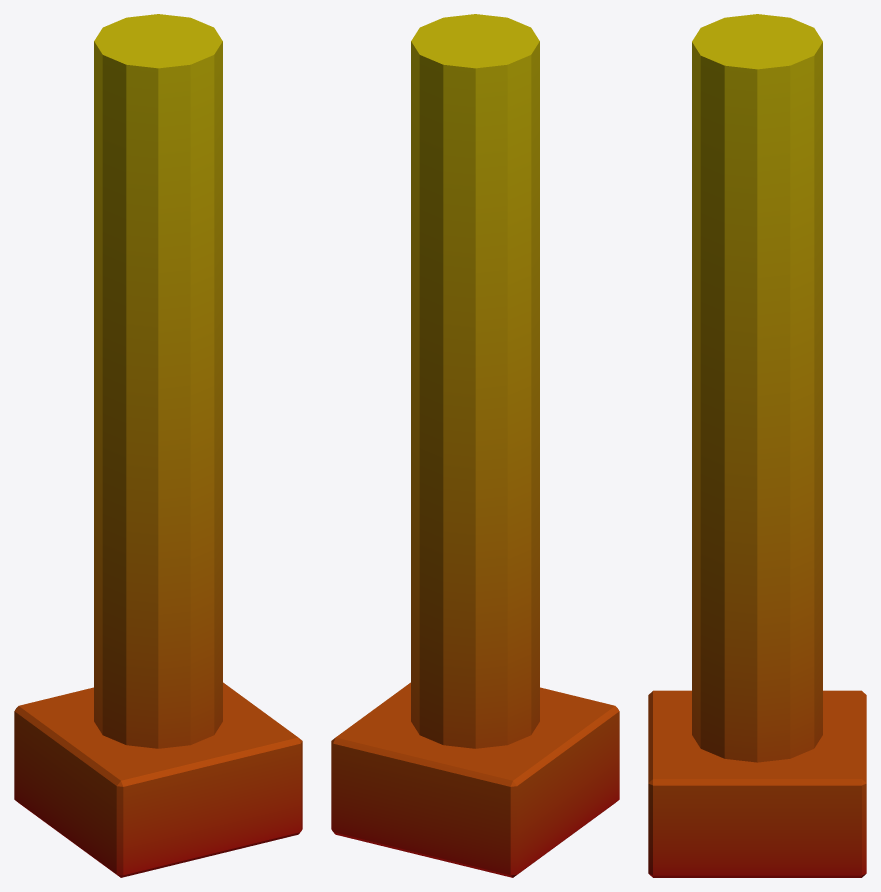
The model's file is lamp_post_broken.glb.
3 views of the same model, side by side, from view 1: azimuth 30°, elevation 25°; view 2: azimuth 150°, elevation 25°; view 3: azimuth 270°, elevation 25° (orthographic).
Visible parts, largest first — view 1: lamp_post_broken; view 2: lamp_post_broken; view 3: lamp_post_broken.
Part boxes in pixels (x1,y1,x2,y2): lamp_post_broken: [14, 14, 302, 877]; lamp_post_broken: [331, 14, 619, 877]; lamp_post_broken: [648, 14, 866, 877].
Size of what is drawn, in the model's own units: 0.4 by 1.6 by 0.4.
